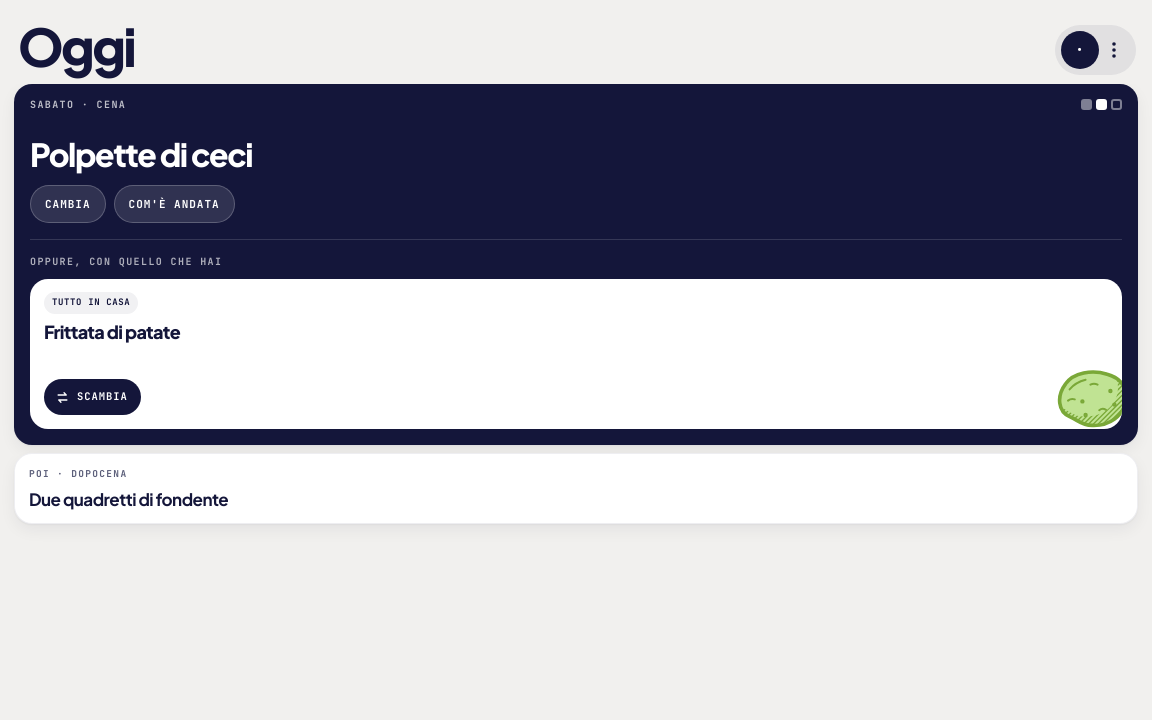
Scenario: Oggi (spec 2026-10-03) › SCAMBIA fallito: il messaggio sotto il poster, niente RIMETTI
Click the button with aria-label "Scambia con Frittata di patate": (92, 397) [44,379,141,415]
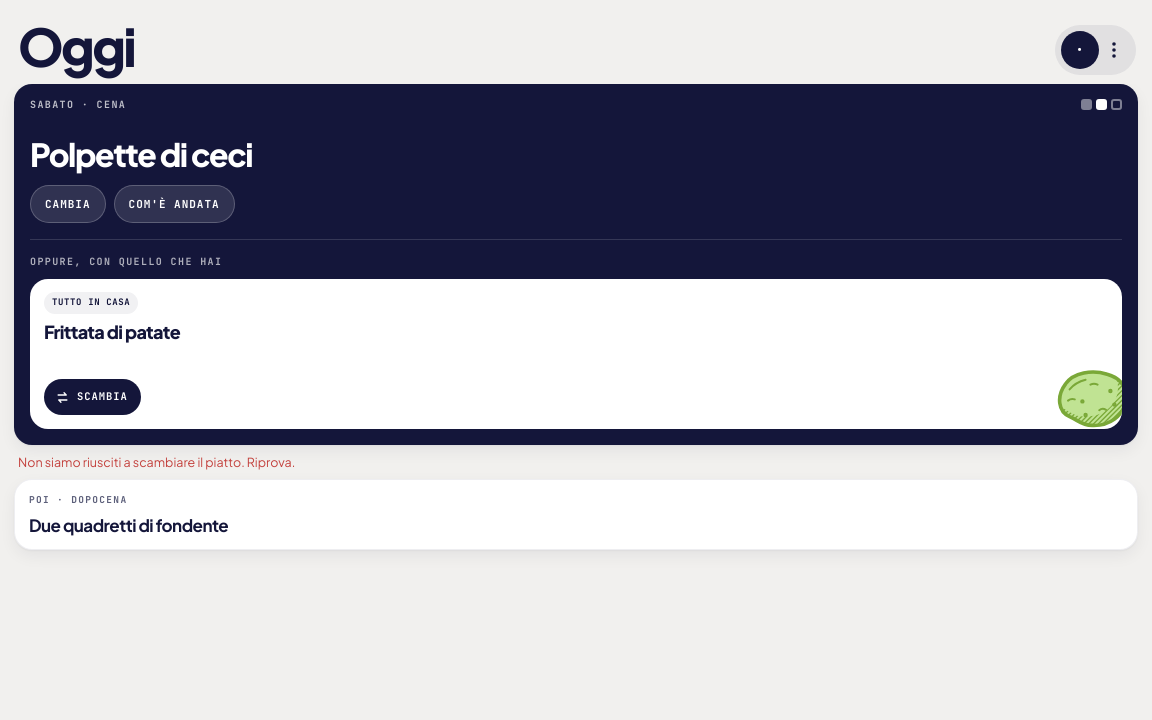
Expected: the heading "Polpette di ceci" is shown, [30,134,252,174]
Expected: the text "Non siamo riusciti a scambiare il piatto. Riprova." is shown, [18,454,295,470]
